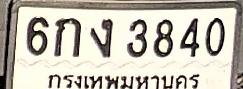0: (205, 17, 225, 56)
3: (126, 18, 147, 57)
4: (179, 17, 199, 57)
6: (26, 16, 48, 55)
8: (153, 18, 173, 57)
A01: (53, 17, 81, 57)
A07: (90, 18, 113, 57)
BKK: (45, 69, 204, 89)
